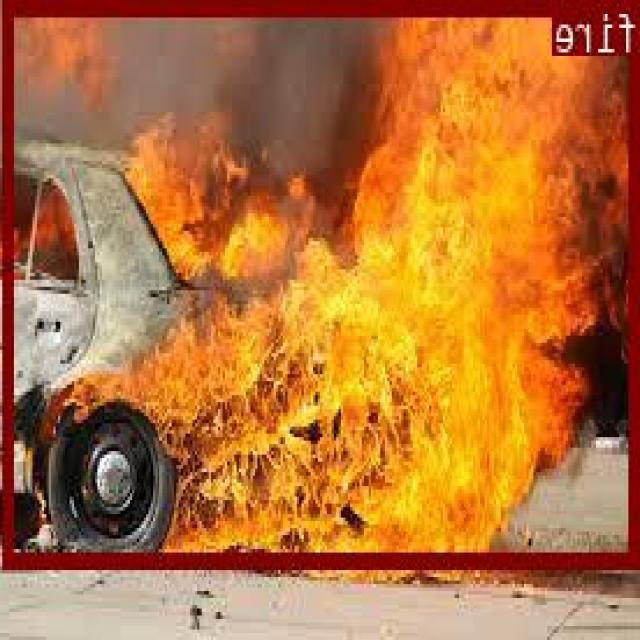fire: (5, 0, 640, 563)
